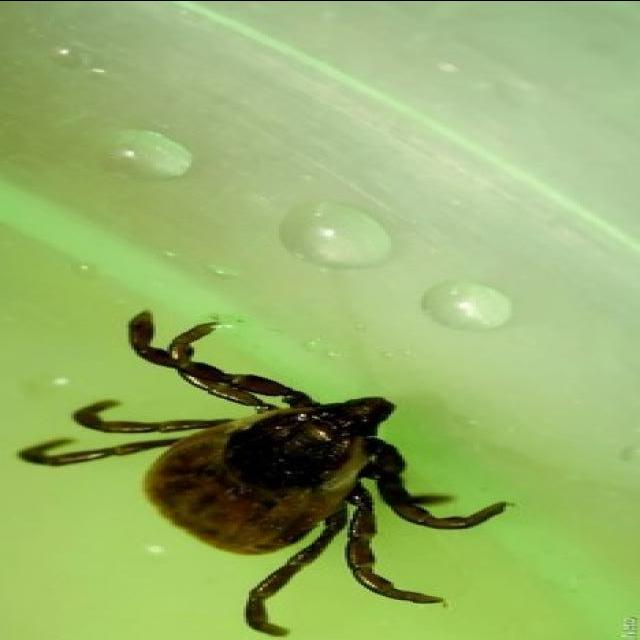Rhipicephalus Sanguineus-F: (16, 308, 511, 635)
